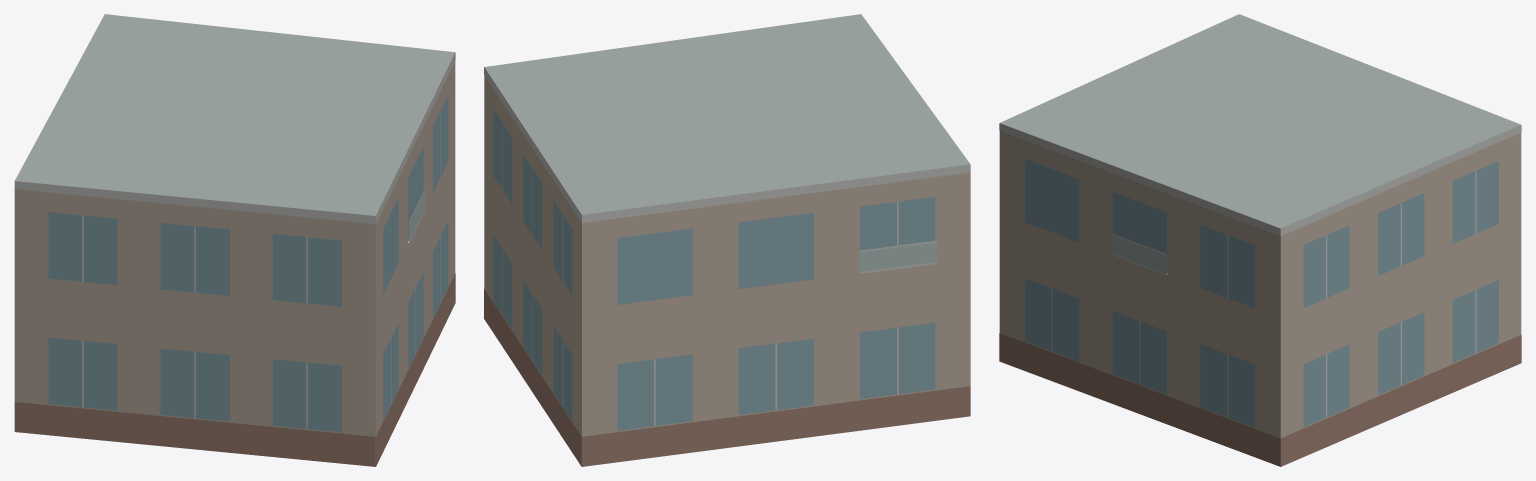
Rendered from survey-upis-33036250.glb.
3 renders of one model, left to right at view 1: azimuth 30°, elevation 25°; view 2: azimuth 150°, elevation 25°; view 3: azimuth 270°, elevation 25°, orthographic. The views are drawn at different scales.
Visible parts, largest first — view 1: survey-upis-33036250.tmp; view 2: survey-upis-33036250.tmp; view 3: survey-upis-33036250.tmp.
Part boxes in pixels (x1,y1,x2,y2): survey-upis-33036250.tmp: [14, 14, 455, 466]; survey-upis-33036250.tmp: [484, 14, 970, 466]; survey-upis-33036250.tmp: [999, 14, 1521, 466].
Size of the model in its own units: 14.67 by 7.6 by 15.09.
